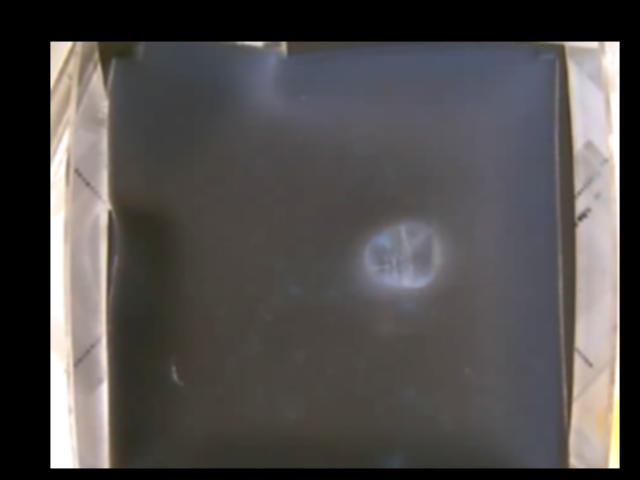Pebble: (365, 222, 438, 288)
